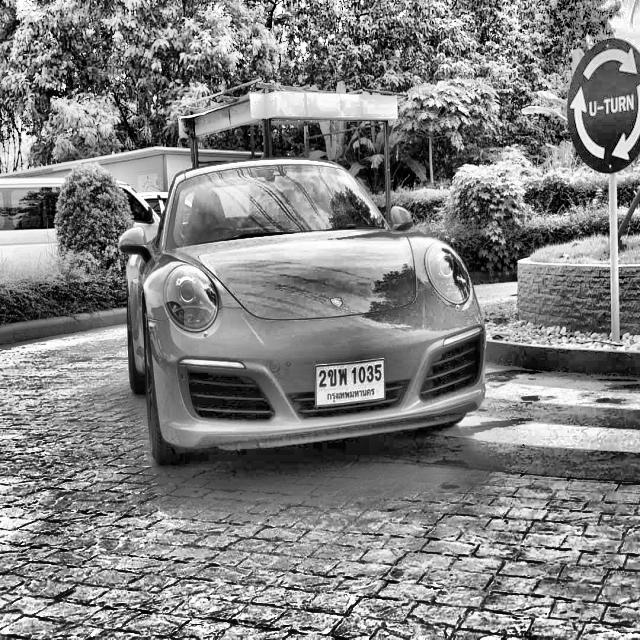license-plate: (310, 353, 390, 412)
